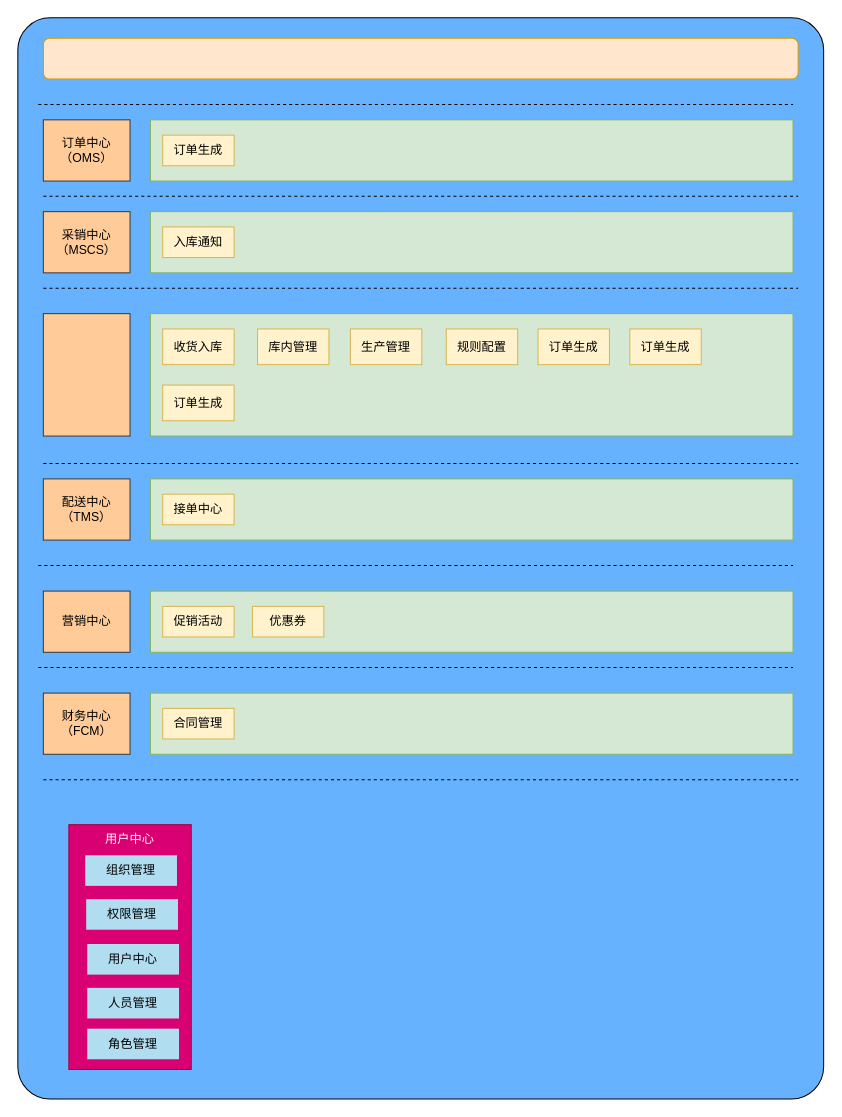
This 842x1117 diagram has some shape labels left out. The shapes that lost their labels are listed below. From the top down, each one's centre as x and y in pixels, then its label:
At [420,58]: "供应链系统架构".
At [86,374]: "仓储中心 （WMS）".
